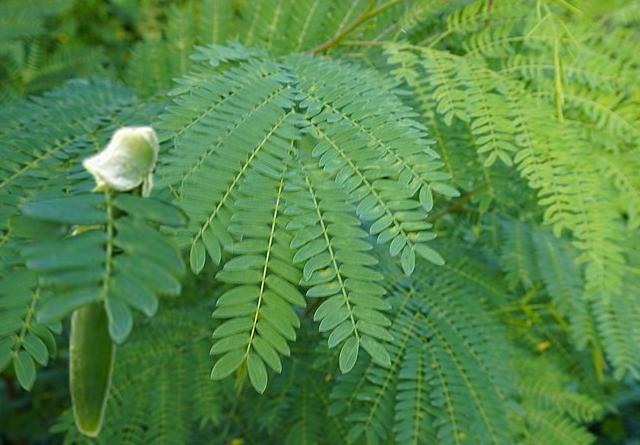pea: (67, 124, 160, 437)
